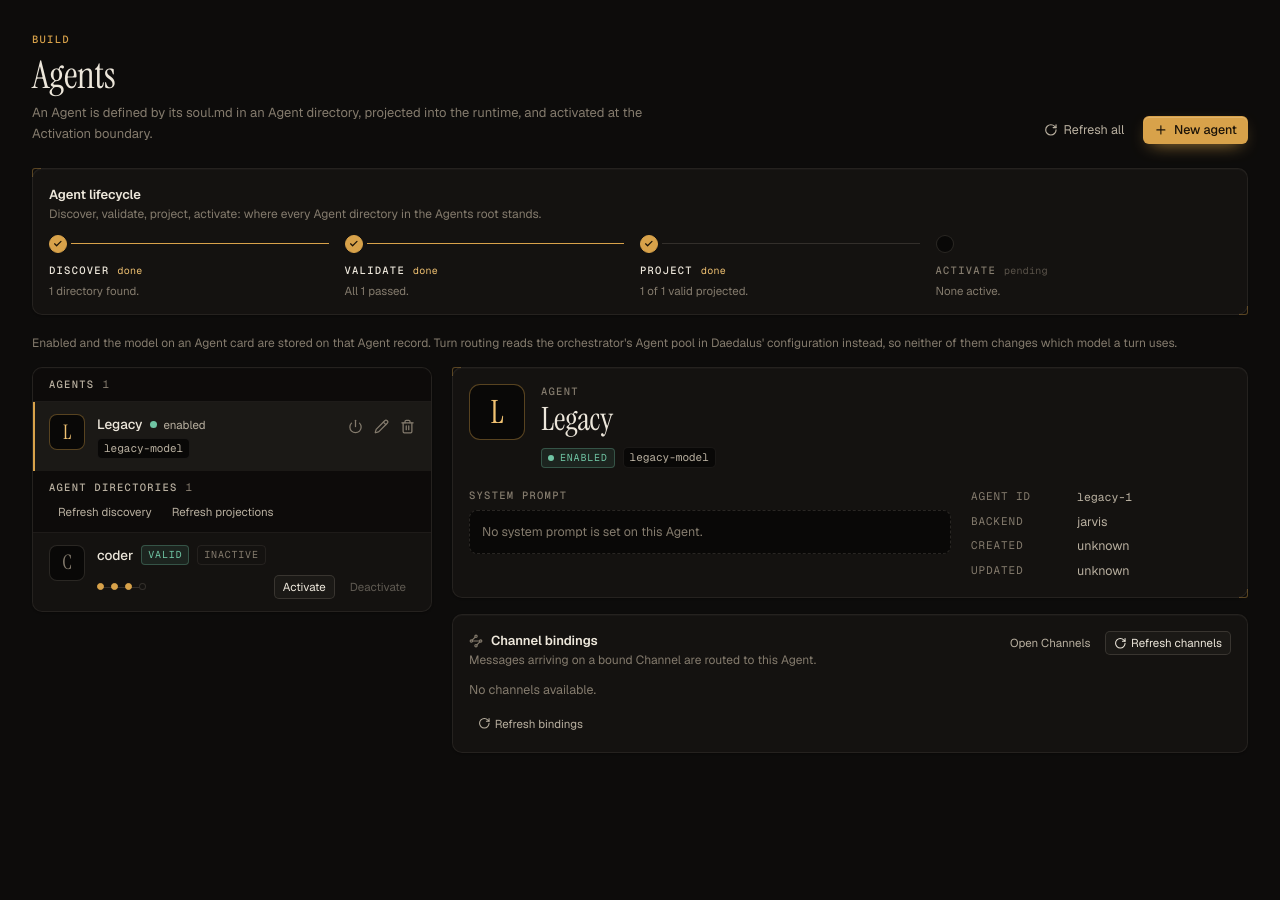
Scenario: Agent lifecycle activation › does not repeat a native write when confirmation readback fails
Check: the button "coder" is shown, box x1=97 y1=545 x2=133 y2=565
Click the button with aria-label "Activate agent coder": (304, 587) x1=274 y1=575 x2=335 y2=599
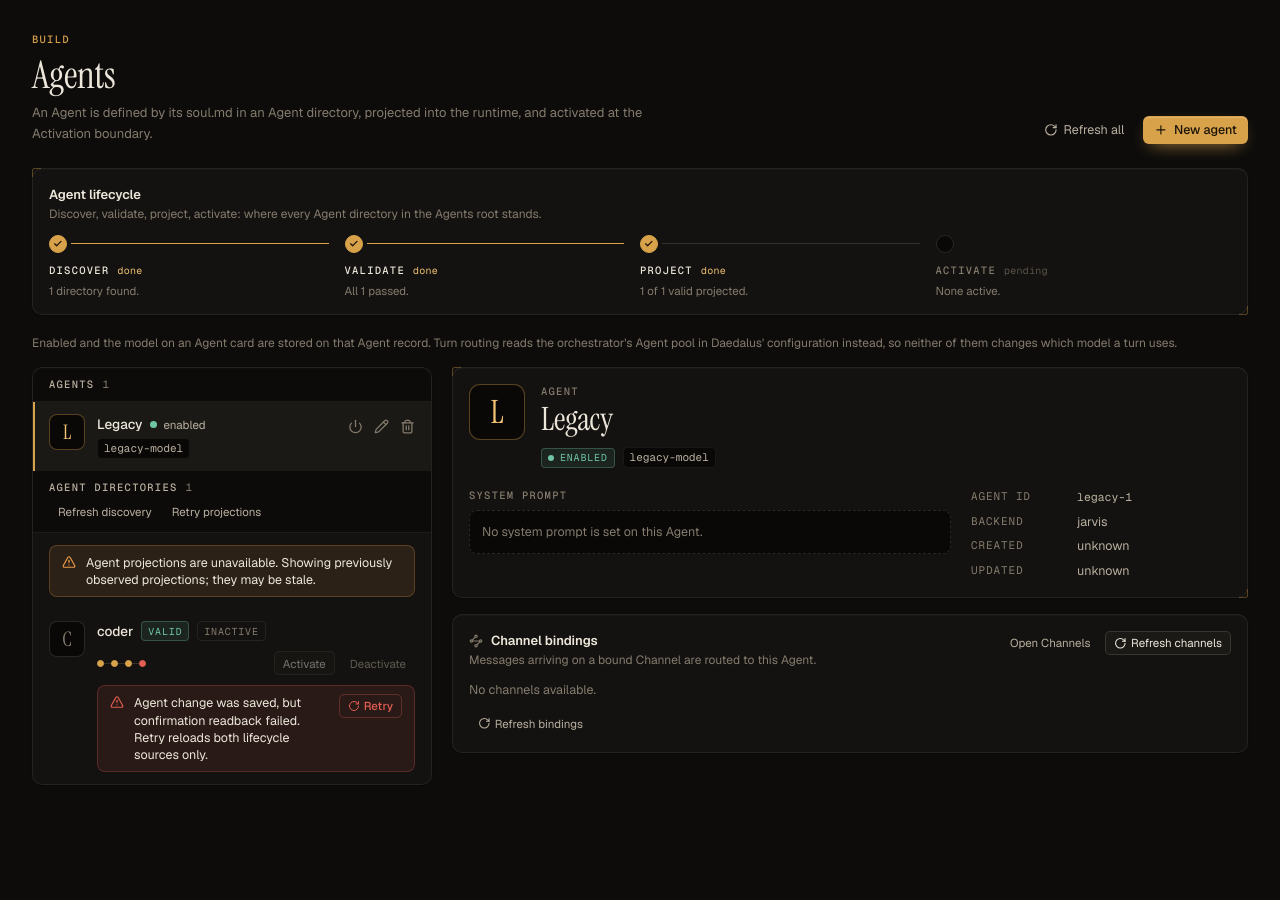
Check: the text "Agent change was saved, but confirmation readback failed" is shown, box x1=134 y1=694 x2=301 y2=763
Check: the button with aria-label "Retry reconciliation for coder" is enabled, box x1=339 y1=694 x2=402 y2=718
